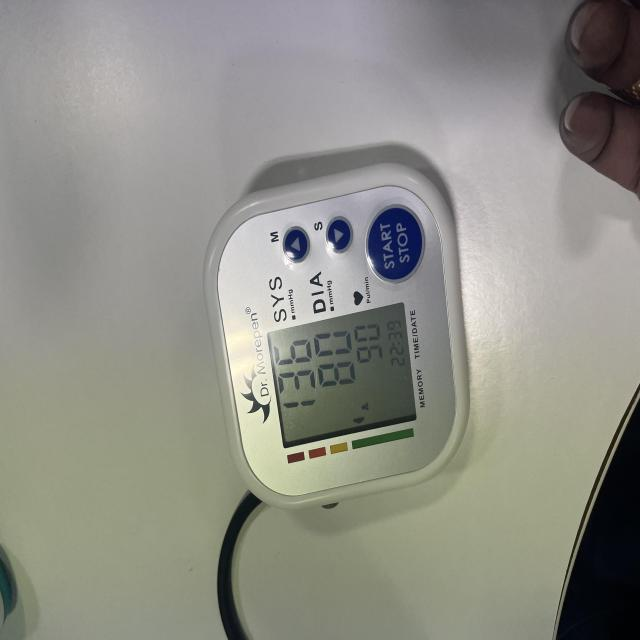bp: (203, 145, 466, 514)
